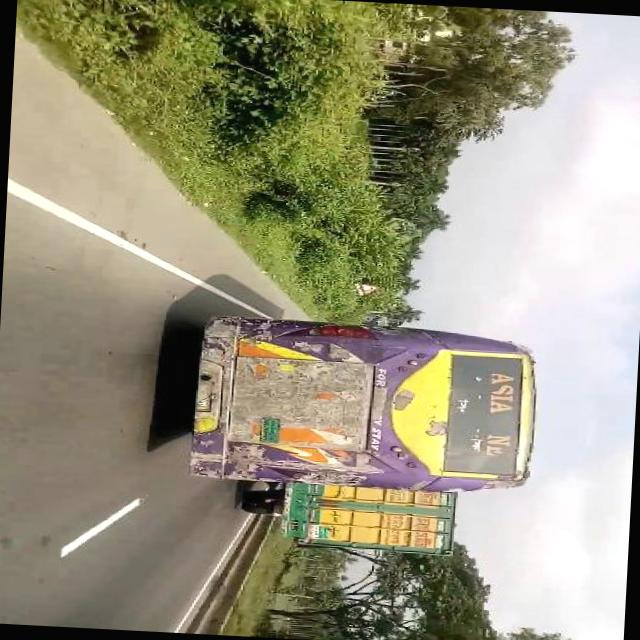bus: (191, 313, 538, 497)
truck: (242, 481, 463, 554)
